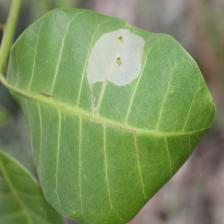leaf miner: (1, 6, 216, 224)
